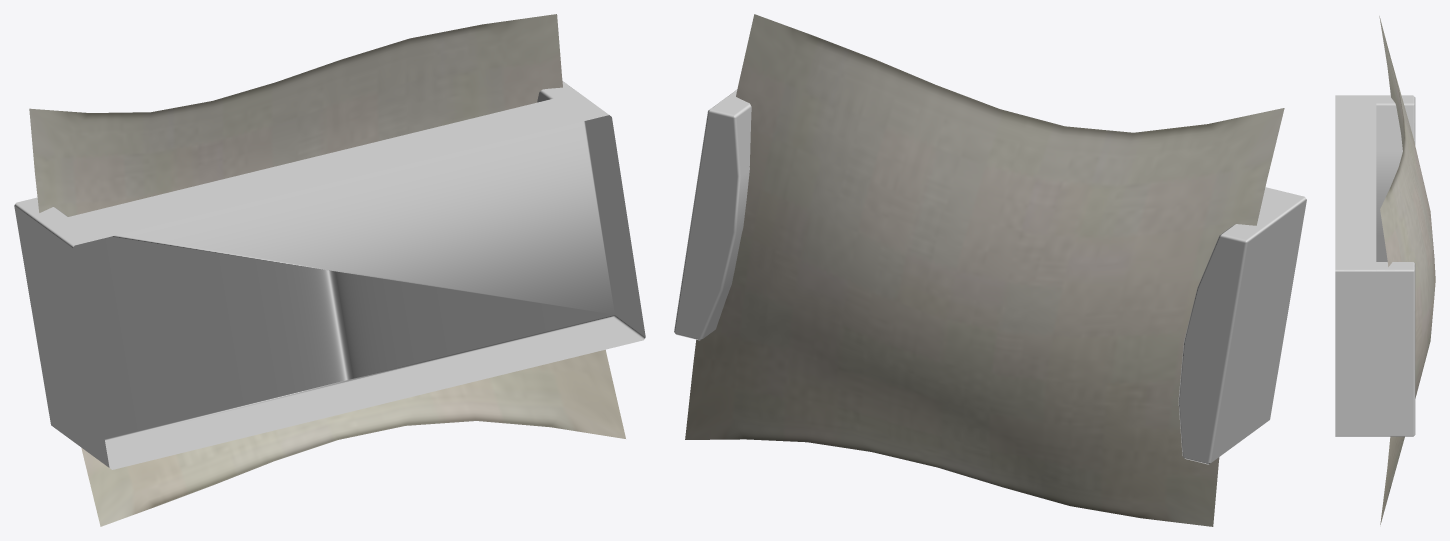
File: Sconce02.fbx
3 views of the same model, side by side, from view 1: azimuth 30°, elevation 25°; view 2: azimuth 150°, elevation 25°; view 3: azimuth 270°, elevation 25° (orthographic). The views are drawn at different scales.
Visible parts, largest first — view 1: Soporte, Tulipa, Tulipa8; view 2: Tulipa, Tulipa8, Soporte; view 3: Soporte, Tulipa, Tulipa8.
Part boxes in pixels (box(x1,y1,x2,y2)): Soporte: box(14, 81, 645, 469); Tulipa: box(29, 14, 625, 526); Tulipa8: box(30, 16, 624, 525); Tulipa: box(685, 14, 1284, 526); Tulipa8: box(686, 16, 1283, 524); Soporte: box(674, 89, 1306, 464); Soporte: box(1335, 95, 1415, 436); Tulipa: box(1379, 16, 1435, 524); Tulipa8: box(1380, 19, 1435, 520).
Size of the model in its own units: 0.489 by 0.3729 by 0.1067.
